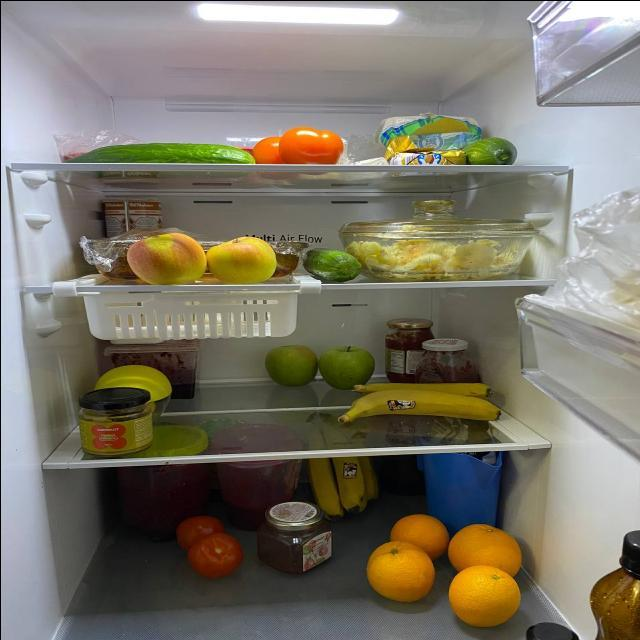Apple: (123, 234, 205, 283), (208, 233, 270, 280), (310, 343, 370, 386), (257, 344, 319, 382)
Banana: (339, 390, 502, 425), (309, 450, 375, 517), (343, 380, 489, 395)
Cucumber: (66, 143, 250, 164), (303, 246, 361, 282), (456, 136, 511, 160)
Orange: (446, 566, 522, 626), (365, 539, 435, 601), (449, 523, 519, 570), (390, 513, 446, 546)
Tomato: (282, 125, 340, 165), (188, 533, 238, 576), (176, 515, 222, 540), (253, 136, 287, 162)
